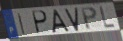A: (52, 8, 71, 34)
I: (16, 12, 26, 36)
L: (99, 5, 117, 29)
P: (79, 6, 98, 31), (32, 10, 49, 35)
V: (63, 7, 80, 33)
